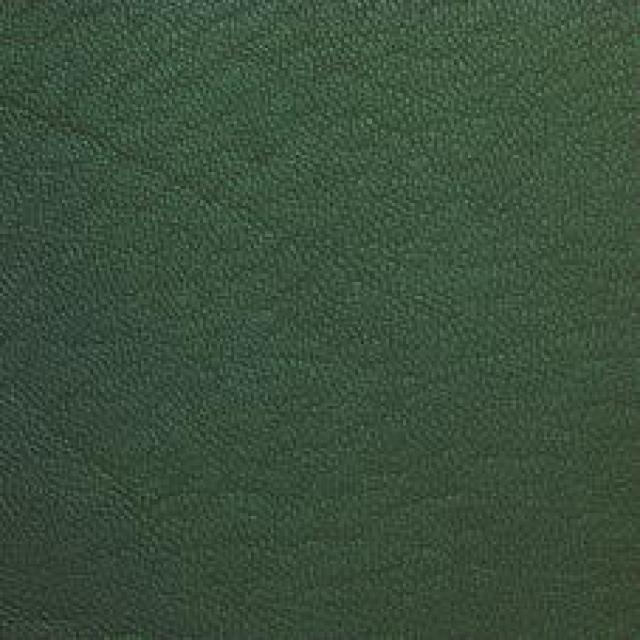Growth Marks: (13, 13, 291, 173)
